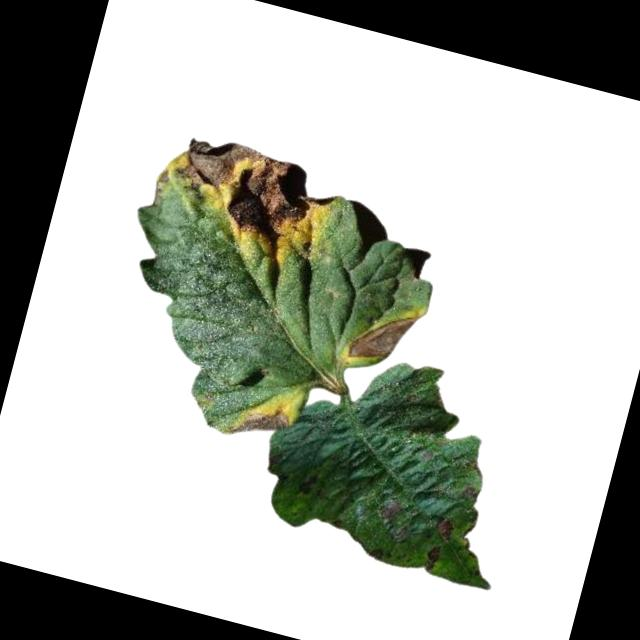Early_blight: (155, 126, 345, 276), (337, 297, 424, 375), (223, 394, 300, 450), (374, 495, 408, 528), (426, 517, 458, 549), (422, 545, 443, 575), (456, 483, 481, 503)
